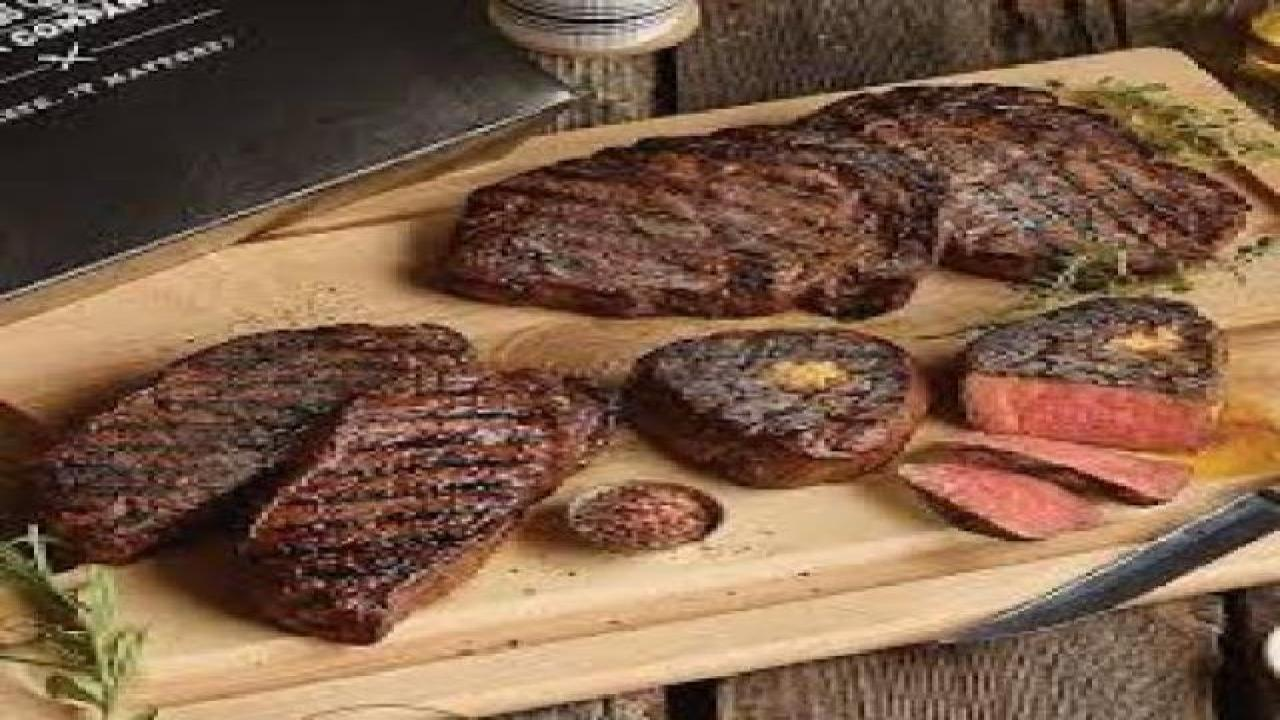Carne: (59, 306, 614, 636), (466, 103, 932, 338), (841, 70, 1234, 286), (964, 283, 1269, 473), (608, 327, 908, 466), (971, 370, 1234, 467), (978, 423, 1217, 513), (889, 465, 1117, 534)
